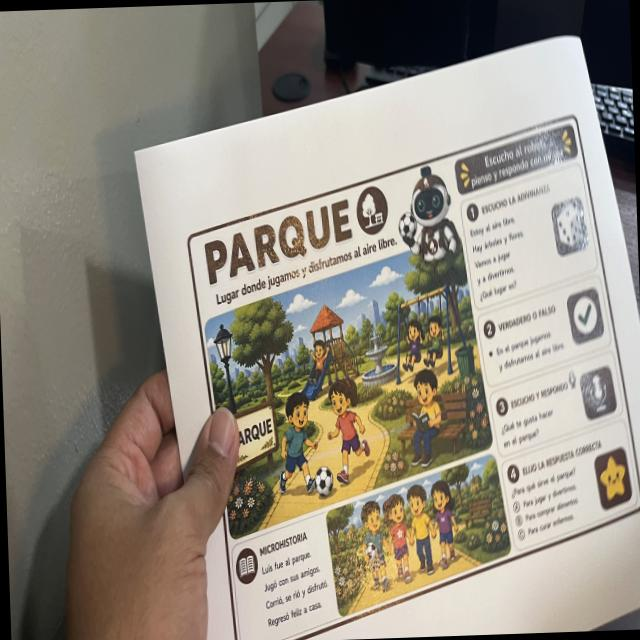parque: (179, 103, 640, 640)
